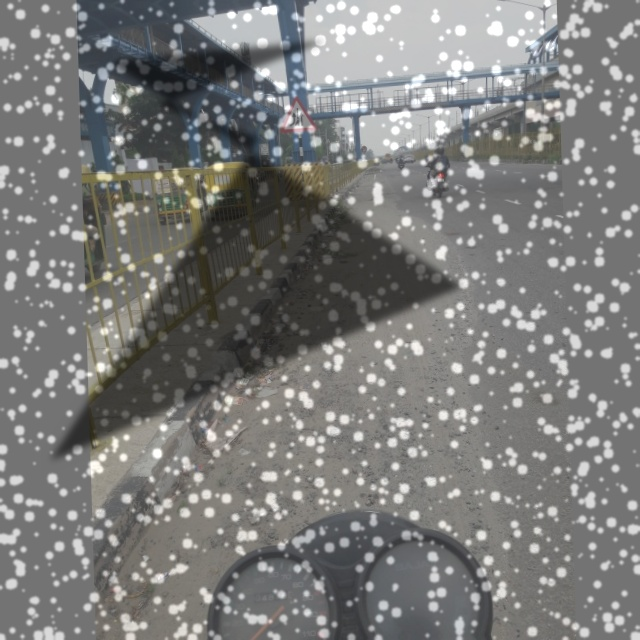Merge_Traffic_Ahead: (275, 86, 320, 136)
